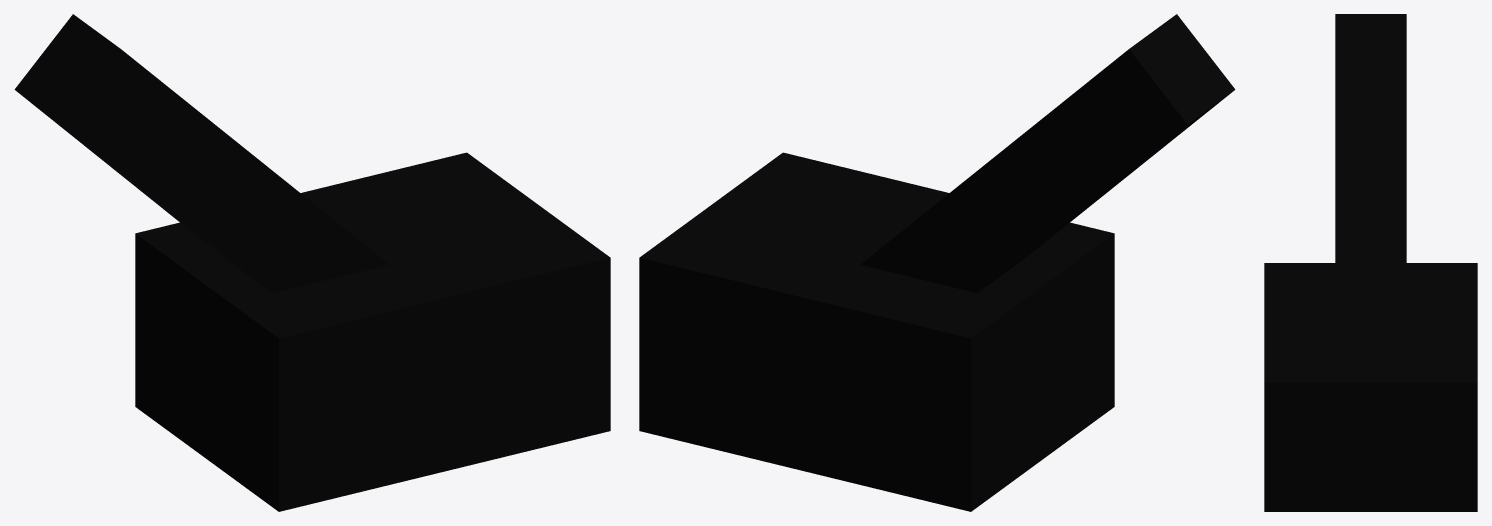
The model's file is button.obj.
3 views of the same model, side by side, from view 1: azimuth 30°, elevation 25°; view 2: azimuth 150°, elevation 25°; view 3: azimuth 270°, elevation 25° (orthographic). The views are drawn at different scales.
Parts seen in each view (by area): view 1: base, handle; view 2: base, handle; view 3: base, handle.
Boxes of the visible parts, box(x1,y1,x2,y2) form: base: box(135, 152, 610, 511); handle: box(14, 14, 389, 293); base: box(639, 152, 1114, 511); handle: box(860, 14, 1235, 293); base: box(1264, 263, 1477, 511); handle: box(1335, 14, 1406, 320).
Size of the model in its own units: 0.7544 by 0.6553 by 0.375.
